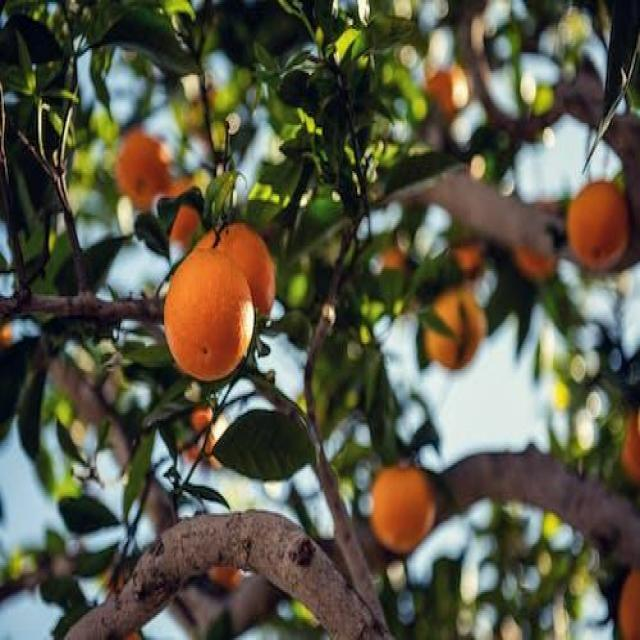Jeruk Sudah Matang: (165, 250, 255, 380), (192, 225, 278, 325), (371, 463, 433, 556), (572, 181, 632, 271), (426, 286, 486, 367), (116, 126, 168, 208), (429, 64, 470, 118), (162, 183, 202, 238), (617, 563, 640, 640), (516, 250, 566, 284), (622, 412, 640, 482), (383, 238, 413, 271), (453, 244, 484, 273)
